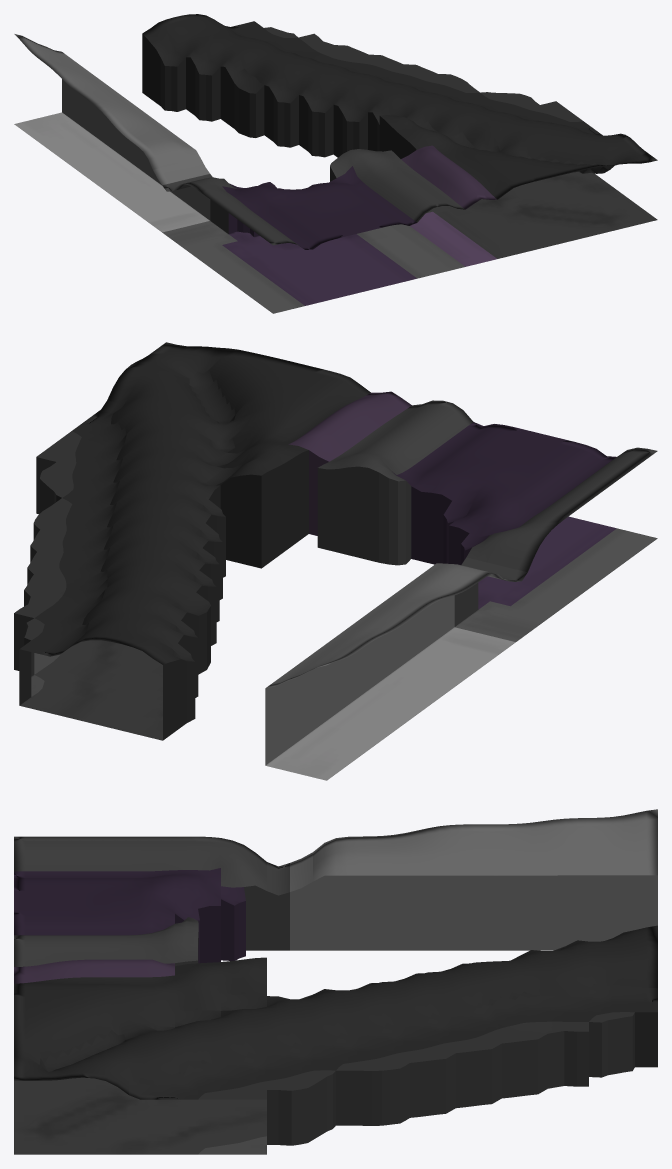
Rendered from delbld-hull-300.glb.
The picture shows the model from 3 angles, top to bottom: view 1: azimuth 30°, elevation 25°; view 2: azimuth 150°, elevation 25°; view 3: azimuth 270°, elevation 25°; orthographic projection. The views are drawn at different scales.
Visible parts, largest first — view 1: delbld-hull-300; view 2: delbld-hull-300; view 3: delbld-hull-300.
Boxes of the visible parts, x1=… form: delbld-hull-300: x1=14, y1=14, x2=657, y2=313; delbld-hull-300: x1=14, y1=342, x2=657, y2=780; delbld-hull-300: x1=14, y1=809, x2=657, y2=1154.
Bounding box in the file's own units: 2 × 0.4488 × 2.33.
6 materials, 6 textured.
